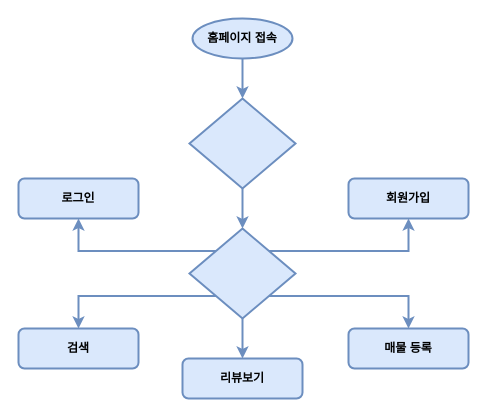
Image size: 486x416. Some labels were removed from this diagram. Here are the shapes that lost their labels. From the top down, the box of each, then its label:
(188, 97, 296, 189): 위치정보 수집 on/off
(188, 227, 296, 319): 메뉴
